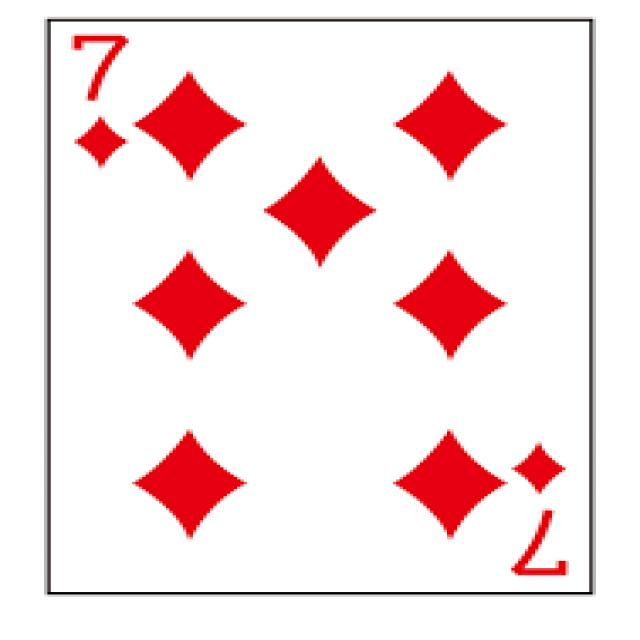R7: (1, 0, 640, 638)
